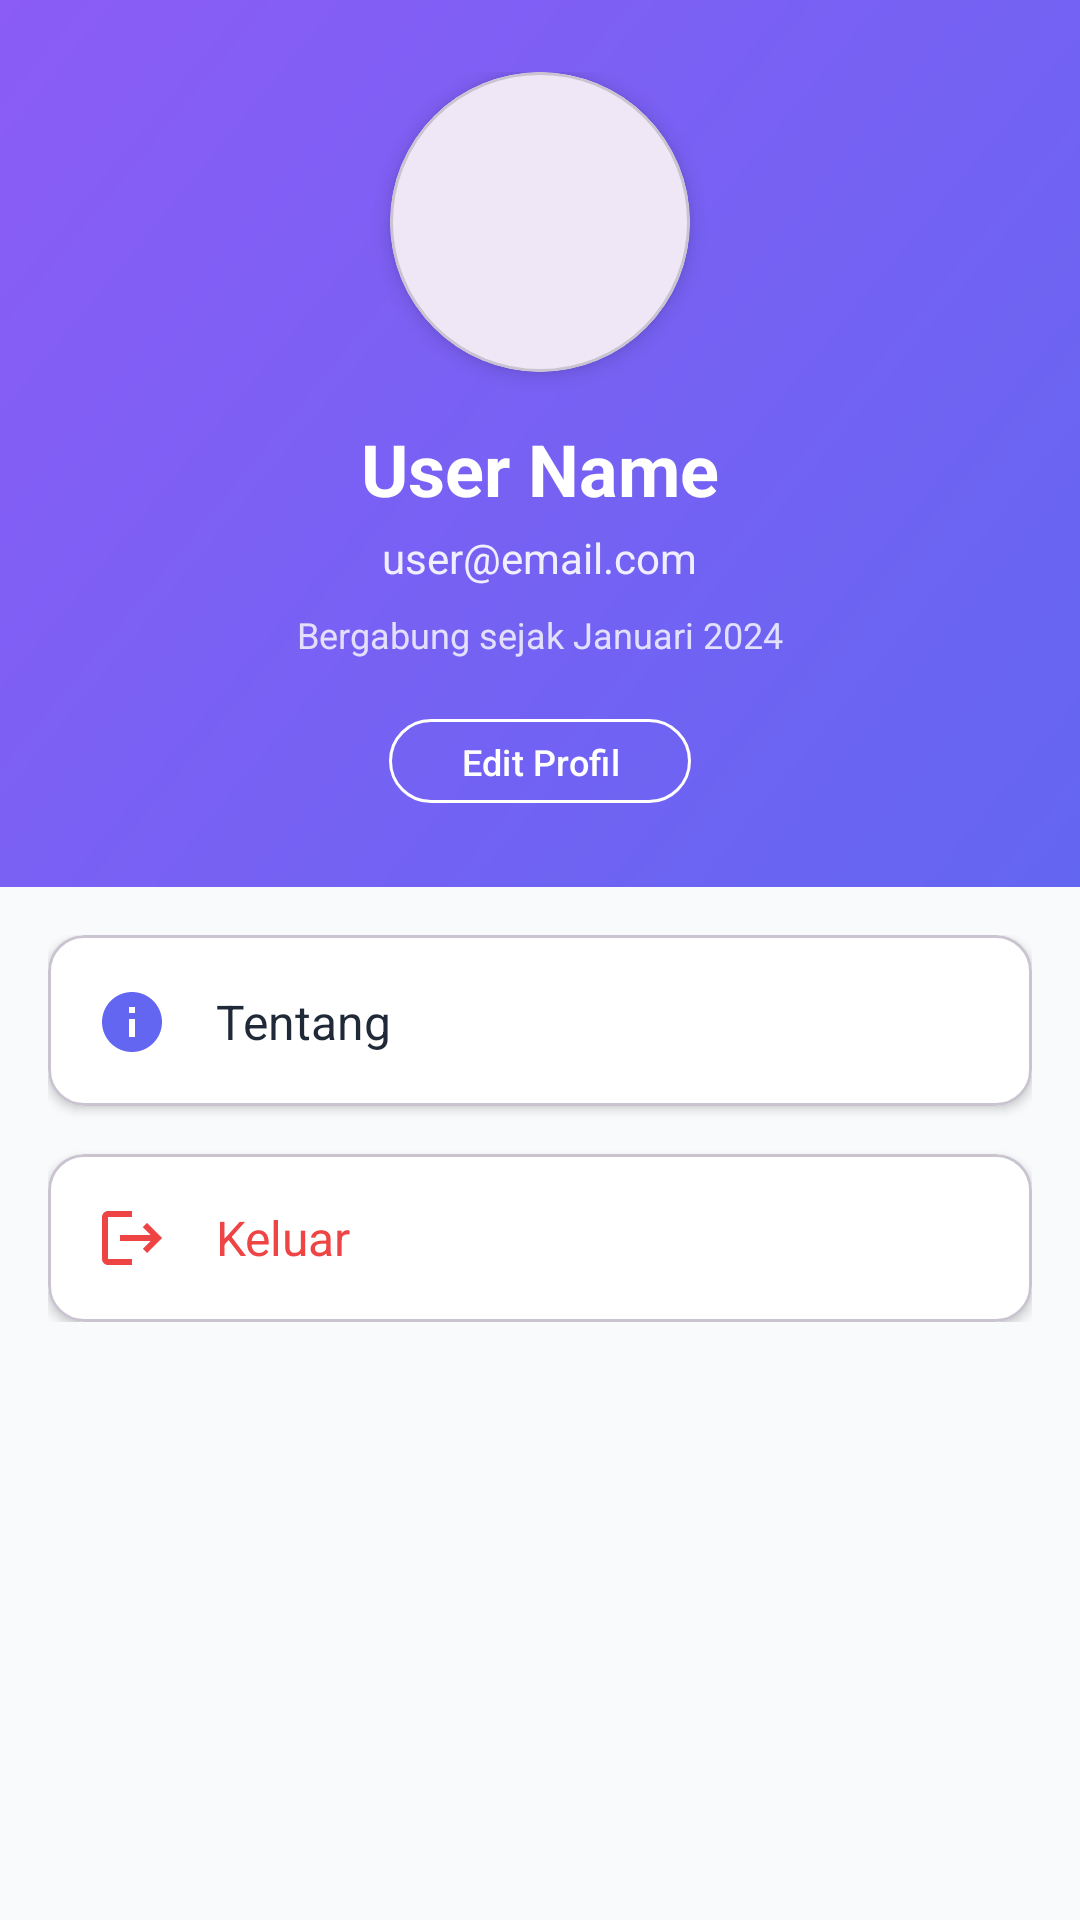

Where to tap for icons on this 1080px x 1920px app screen, as [x,y]:
info: [132,1022]
